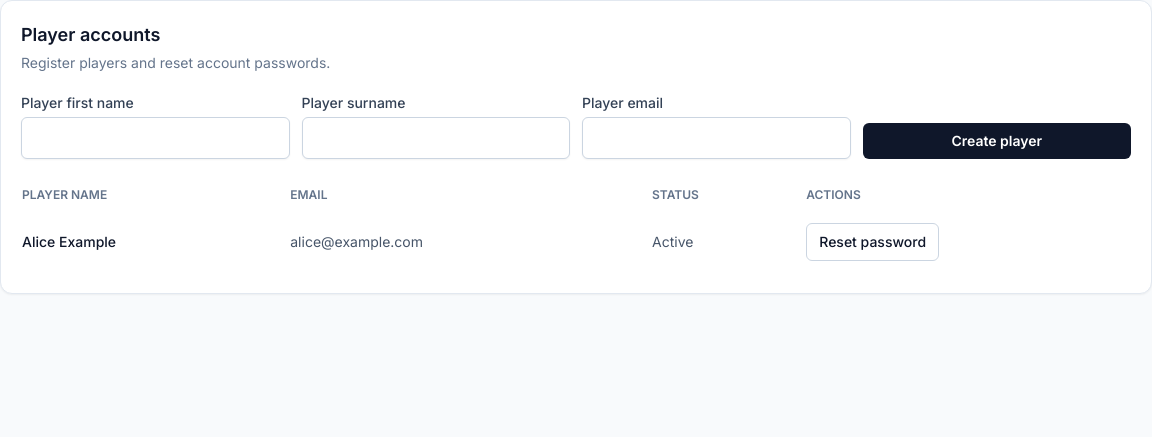
Test: PlayerUsersPanel › resets a player password and shows the temporary password once
Click the button with aria-label "Reset Alice Example password" at (873,242), box [806,223,939,261]
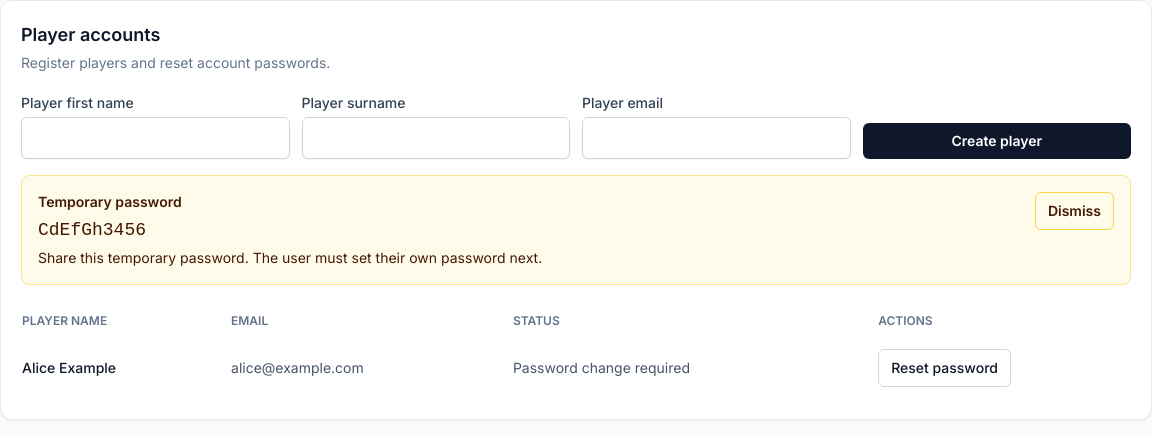
Now the text "CdEfGh3456" is shown, box [38,220,146,240]
Click the button with aria-label "Dismiss temporary password" at (1074,211), box [1035,192,1114,230]
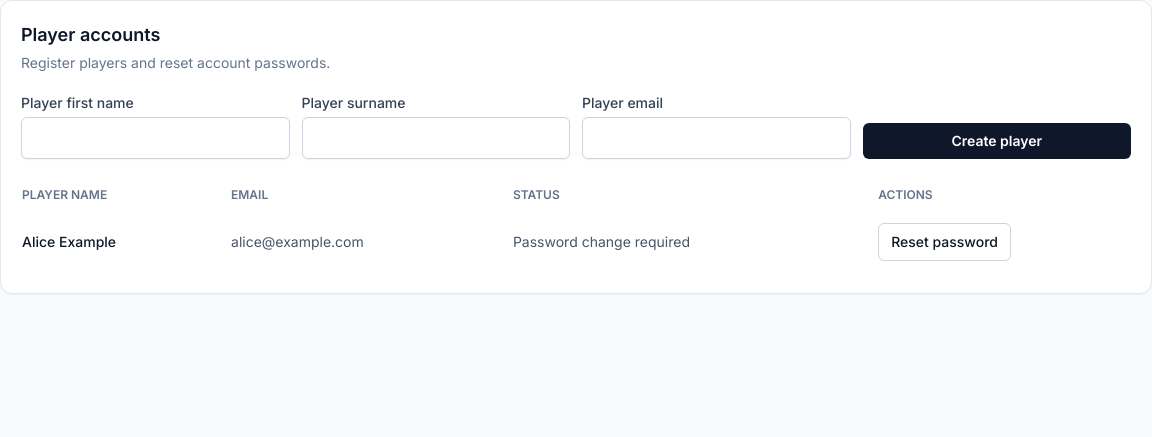
Now the text "CdEfGh3456" is gone
